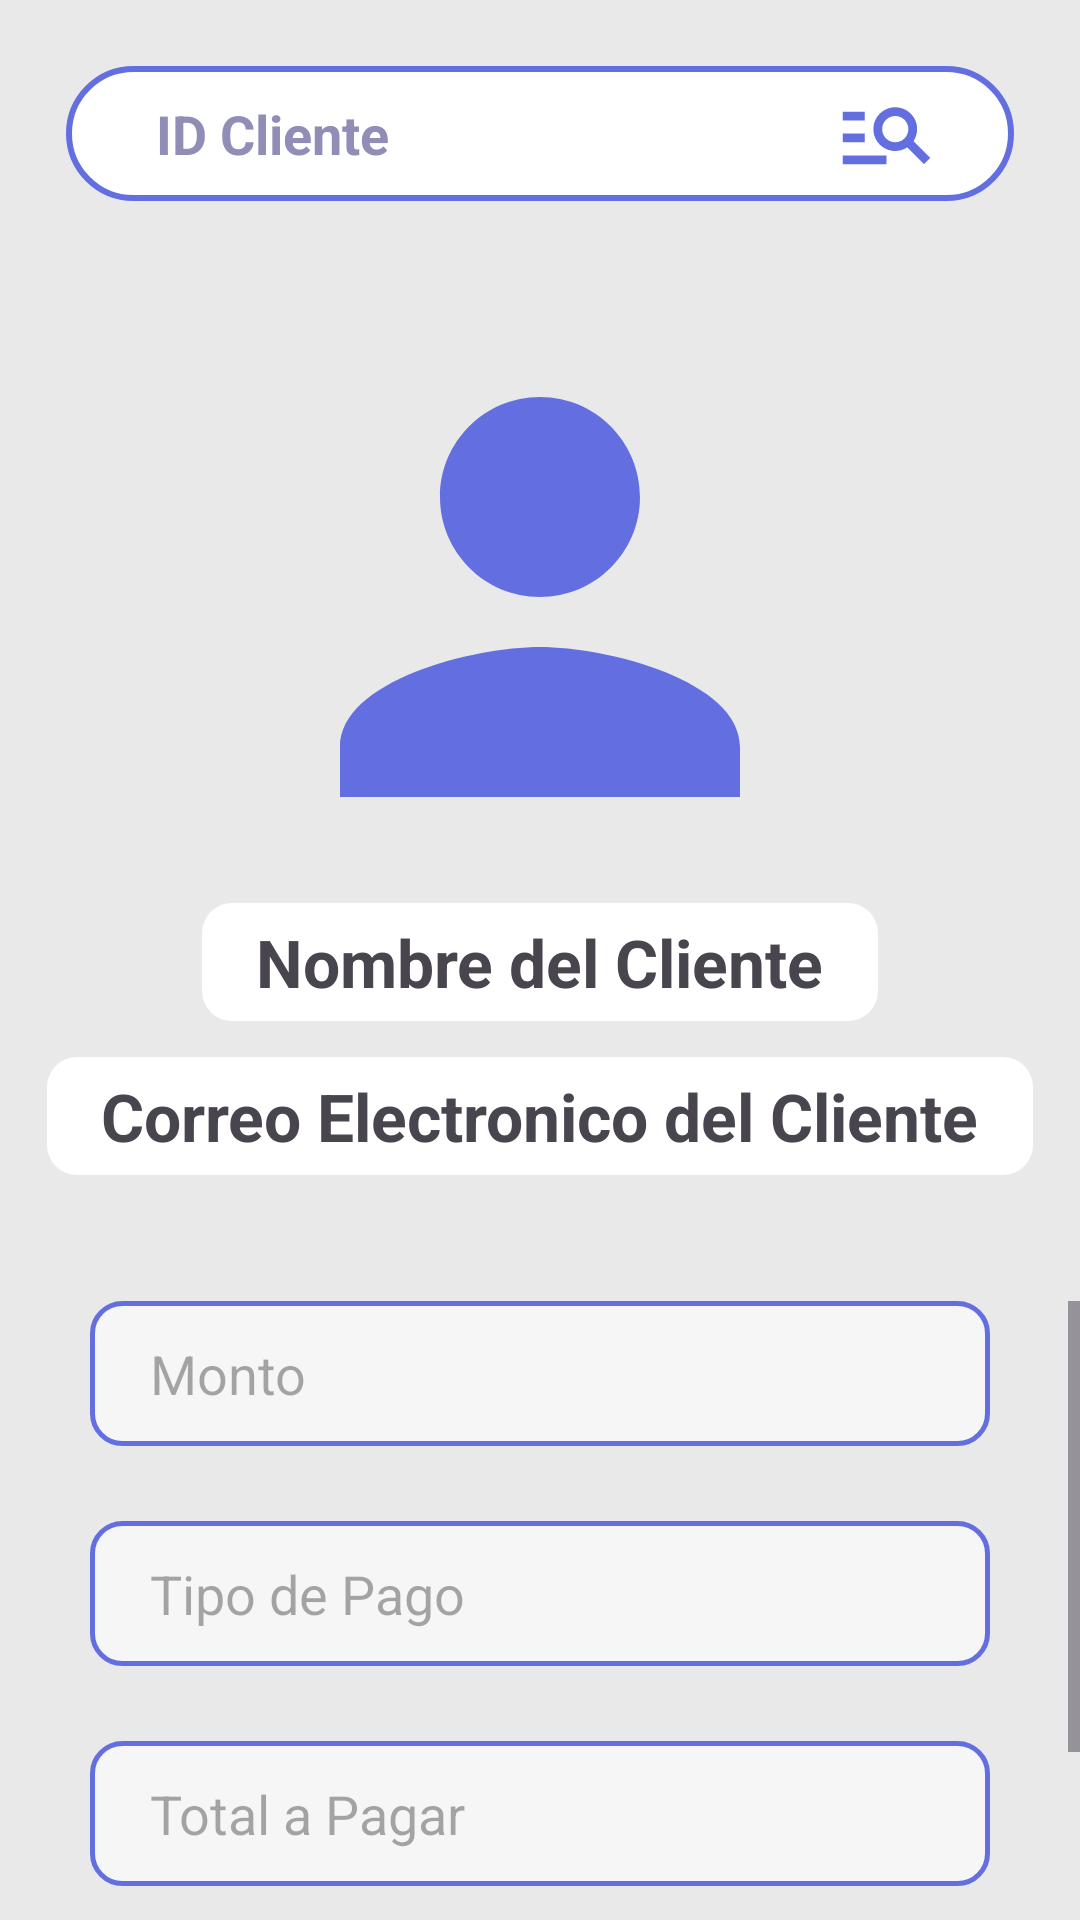

Screen size 1080w x 1920h. Icon name, then its center in pixels as (x,y):
buscar prestamos: (886,136)
